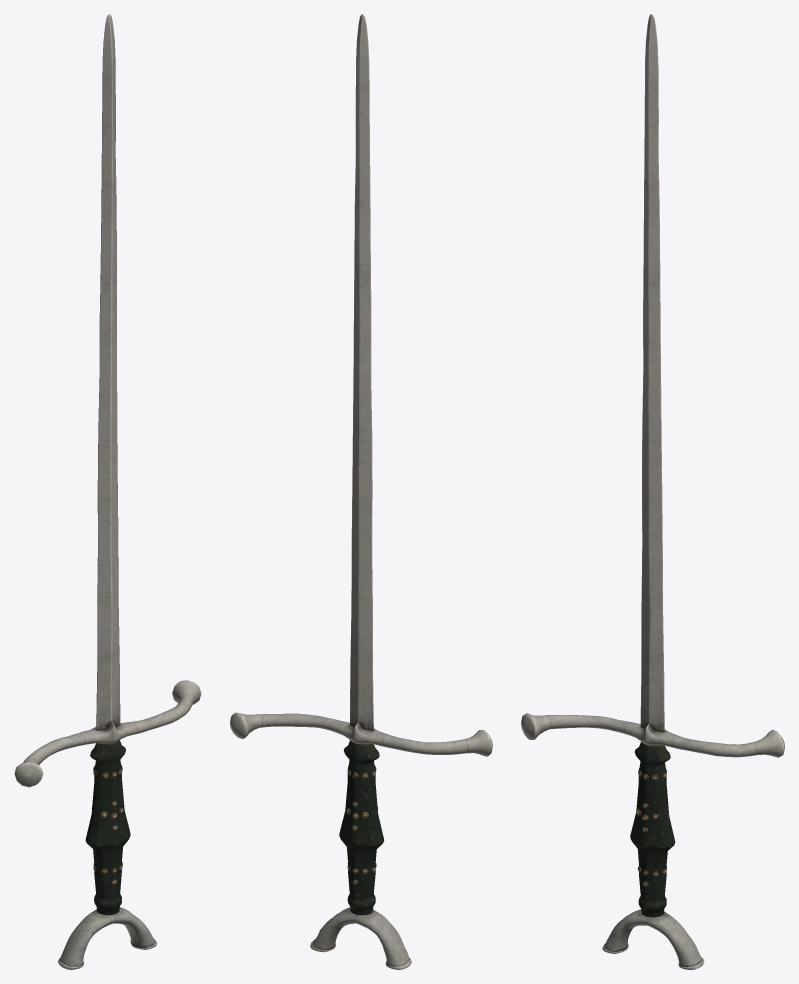
Rendered from antique_estoc.glb.
3 renders of one model, left to right at view 1: azimuth 30°, elevation 25°; view 2: azimuth 150°, elevation 25°; view 3: azimuth 330°, elevation 25°, orthographic.
Bounding box in the file's own units: 0.3715 × 1.49 × 0.1491.
Materials: 1 (1 with a texture image).
